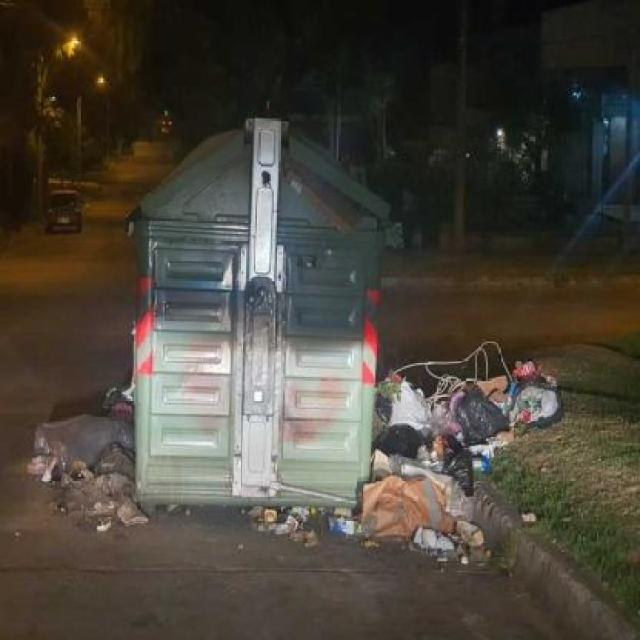garbage: (379, 391, 480, 546), (32, 418, 140, 520), (391, 371, 557, 418), (257, 506, 378, 547), (417, 351, 516, 376), (102, 388, 134, 419)
